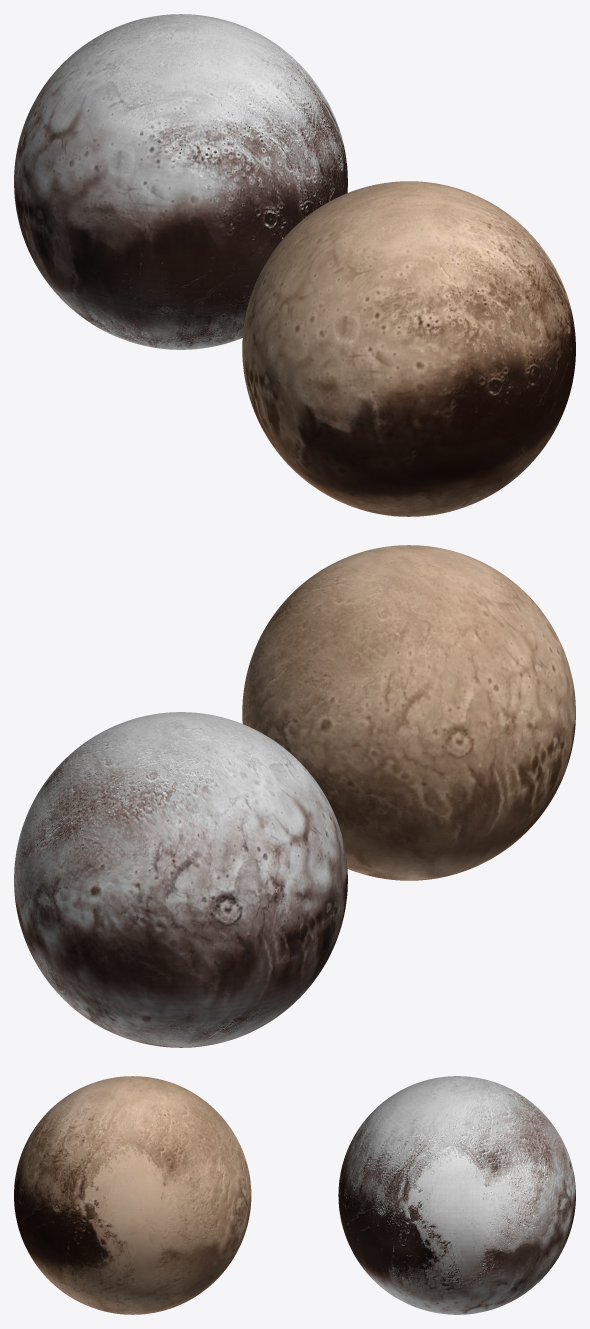
Rendered from Pluto.fbx.
3 renders of one model, top to bottom at view 1: azimuth 30°, elevation 25°; view 2: azimuth 150°, elevation 25°; view 3: azimuth 270°, elevation 25°, orthographic. The views are drawn at different scales.
Parts seen in each view (by area): view 1: Sphere - light material, Sphere; view 2: Sphere, Sphere - light material; view 3: Sphere, Sphere - light material.
Boxes of the visible parts, <box> form: Sphere - light material: <box>242,181,575,516</box>; Sphere: <box>14,14,347,349</box>; Sphere: <box>14,712,347,1047</box>; Sphere - light material: <box>242,545,575,880</box>; Sphere: <box>338,1076,575,1314</box>; Sphere - light material: <box>14,1076,251,1314</box>.
Size of the model in its own units: 197 by 200 by 467.
2 materials, 2 textured.
